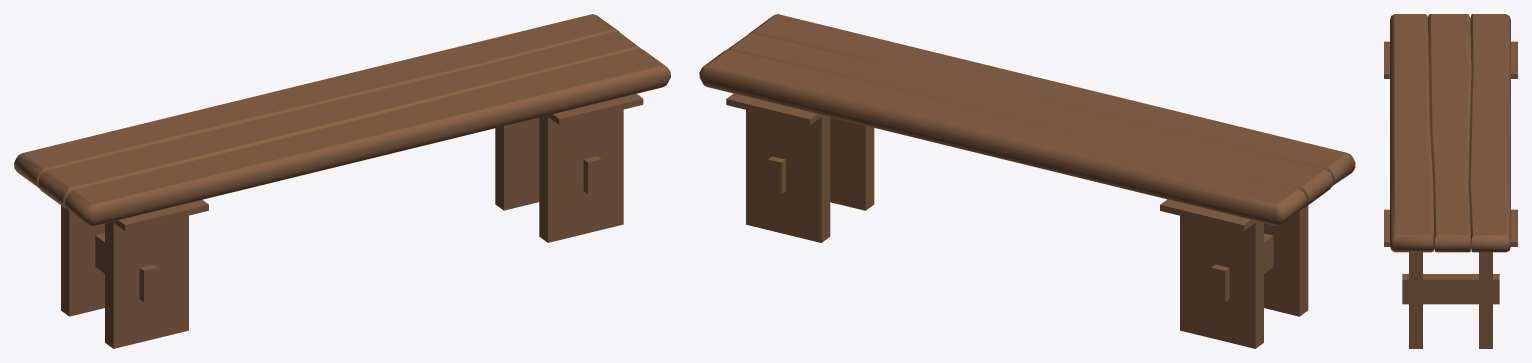
File: SE_100_wooden_bench.glb
3 renders of one model, left to right at view 1: azimuth 30°, elevation 25°; view 2: azimuth 150°, elevation 25°; view 3: azimuth 270°, elevation 25°, orthographic. The views are drawn at different scales.
Parts seen in each view (by area): view 1: table, legs, support_top, support_bottom; view 2: table, legs, support_top, support_bottom; view 3: table, legs, support_bottom, support_top.
Boxes of the visible parts, x1,y1,x2,y2 form: table: [14, 14, 670, 226]; legs: [61, 109, 623, 348]; support_top: [112, 94, 643, 230]; support_bottom: [95, 156, 601, 301]; table: [699, 14, 1355, 225]; legs: [746, 110, 1308, 348]; support_top: [726, 93, 1256, 231]; support_bottom: [768, 156, 1273, 302]; table: [1390, 14, 1510, 252]; legs: [1409, 252, 1492, 348]; support_bottom: [1402, 274, 1499, 304]; support_top: [1384, 41, 1517, 246].
Size of the model in its own units: 2.1 by 0.5422 by 0.5227.
